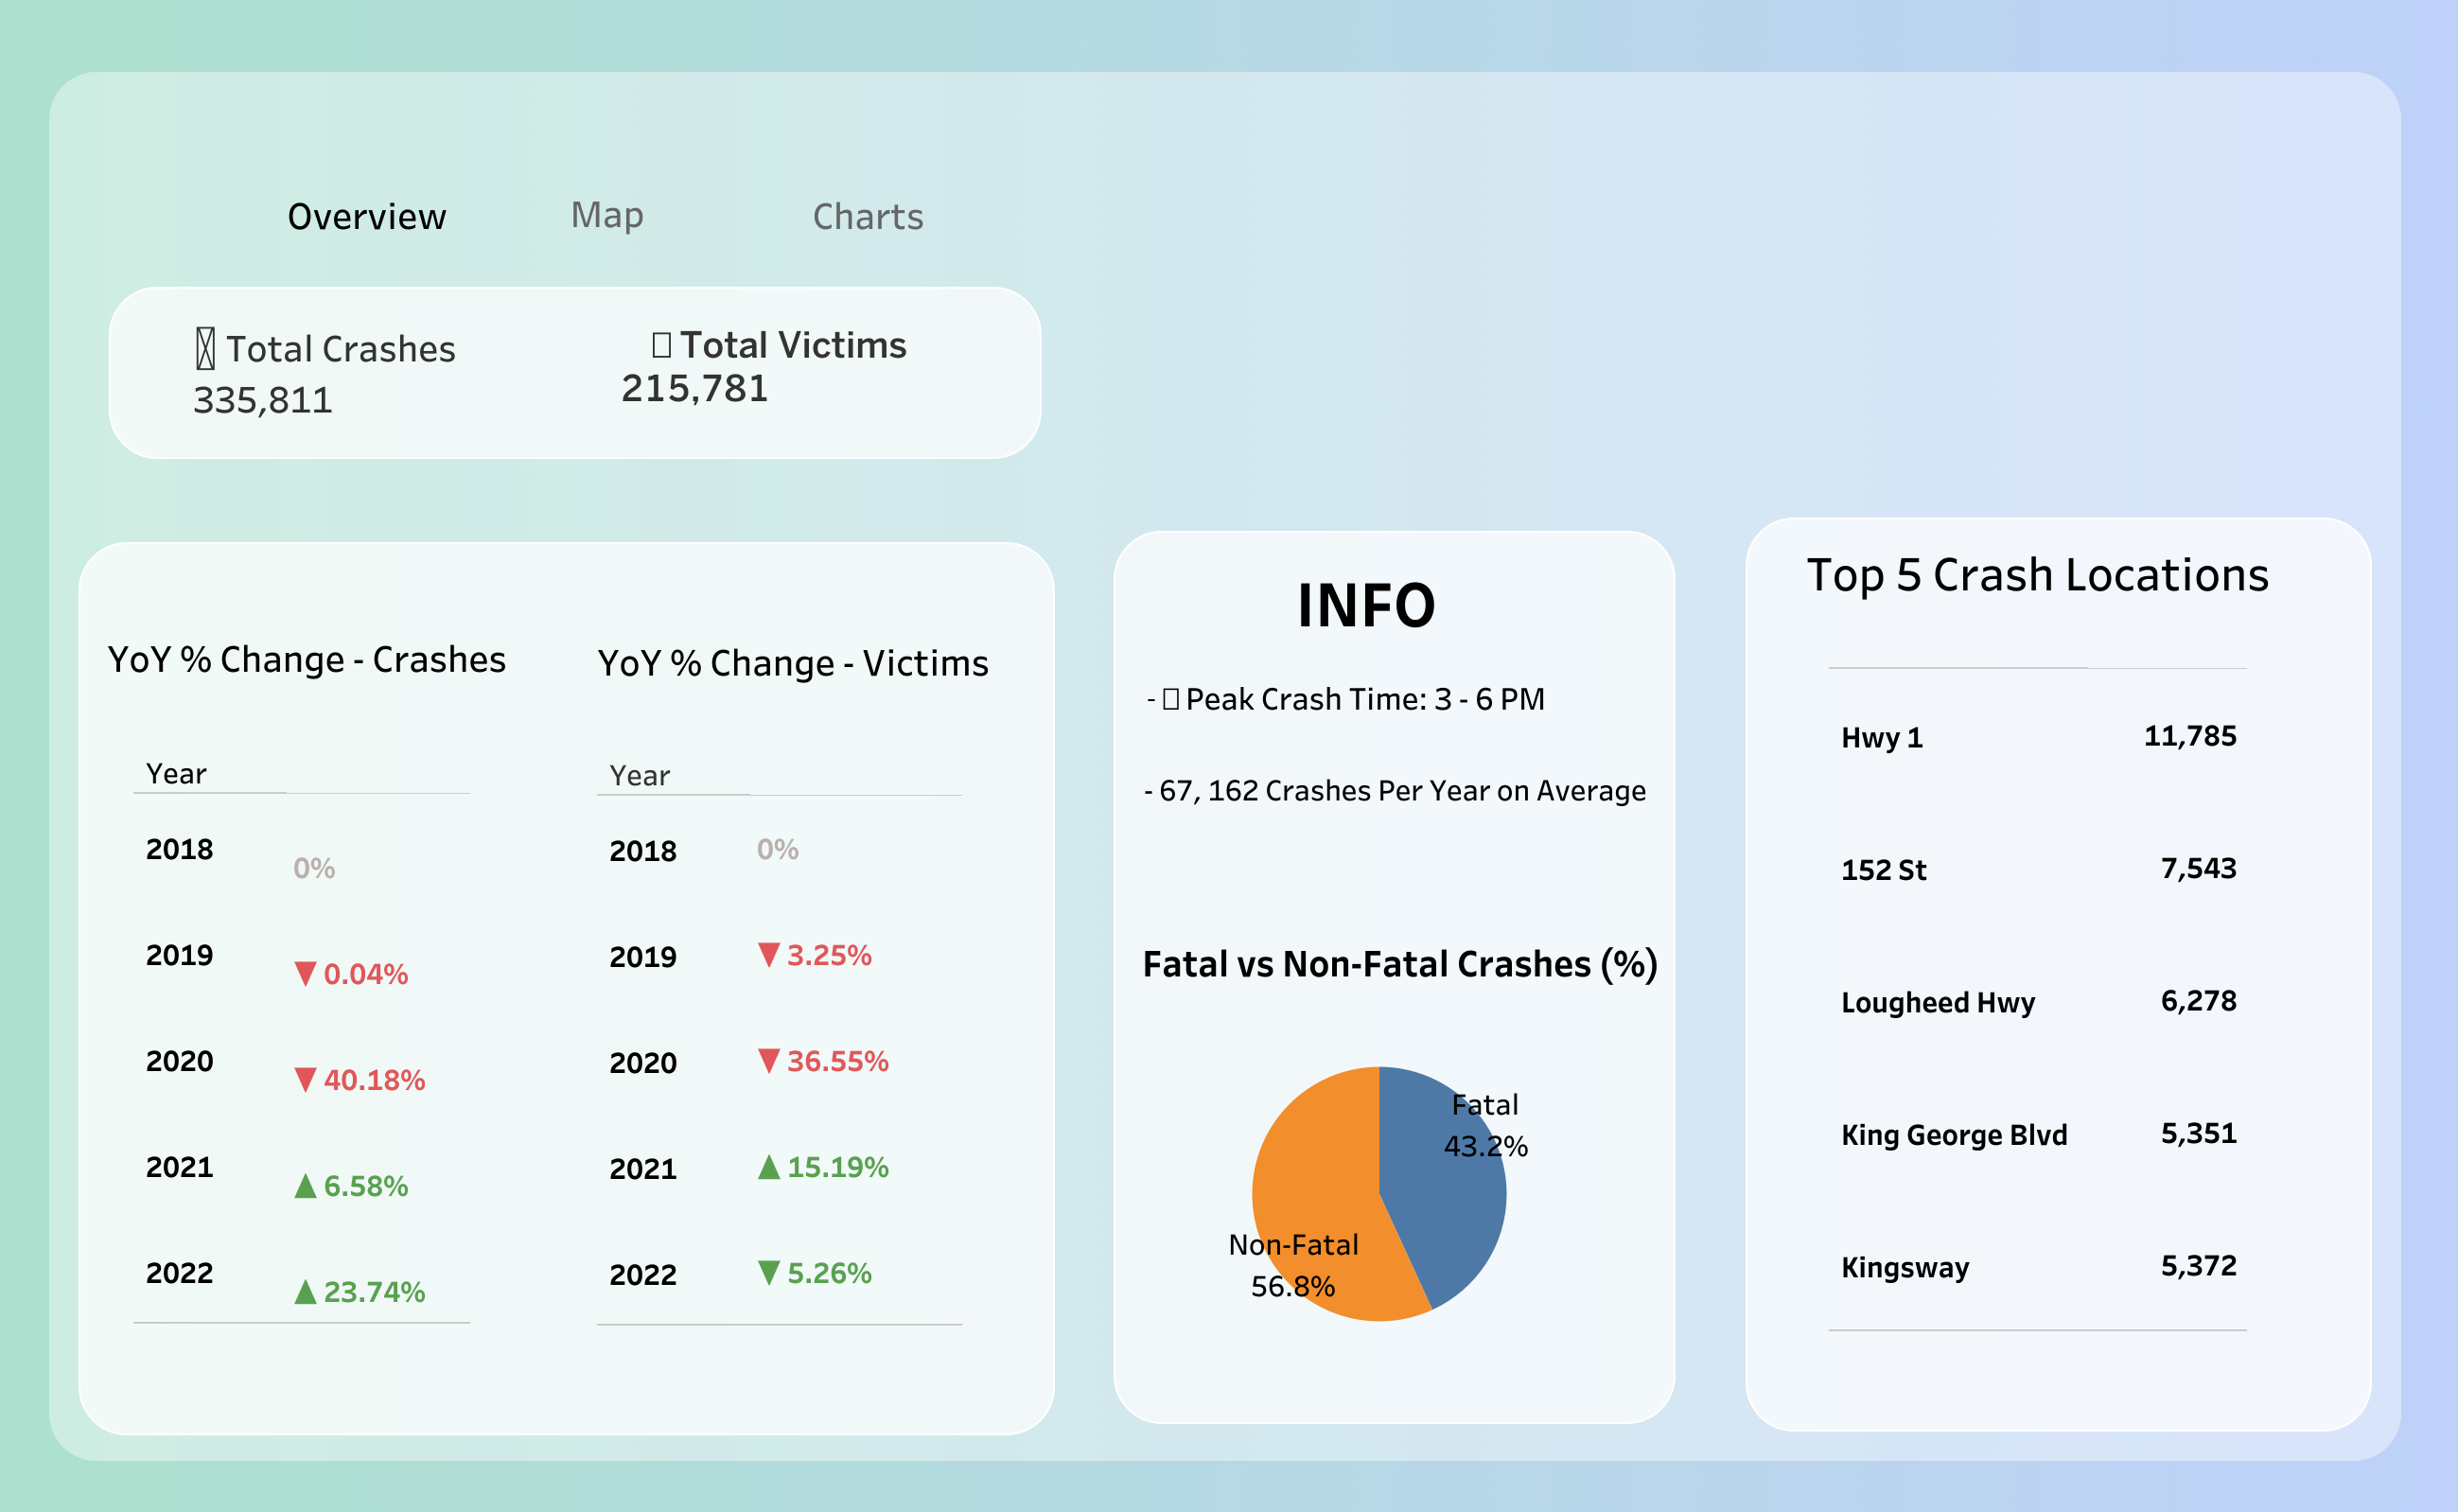

The page's visual inventory and layout, read from the dashboard file:
{"tool":"tableau","page":{"name":"Overview","canvas":[1300,800],"ordinal":2},"visuals":[{"type":"image","param":"/Users/paul/Downloads/Green - Blue Background.png","box":[0,0,1300,800]},{"type":"worksheet","title":"Sheet 9","mark":"Automatic","box":[0,1,1300,800]},{"type":"dashboard-object","box":[8,8,642,392]},{"type":"web page","box":[650,8,642,392]},{"type":"dashboard-object","box":[239,86,164,52]},{"type":"dashboard-object","box":[377,87,164,52]},{"type":"text","box":[149,98,100,30]},{"type":"worksheet","title":"Sheet 5","mark":"Text","box":[98,155,201,84]},{"type":"worksheet","title":"Sheet 6","mark":"Text","box":[324,156,199,92]},{"type":"text","box":[952,279,330,46]},{"type":"text","box":[682,296,100,44]},{"type":"text","box":[54,332,217,30]},{"type":"text","box":[313,334,230,30]},{"type":"text","box":[603,353,234,30]},{"type":"worksheet","title":"Sheet 8","mark":"Automatic","rows":["street_full"],"box":[967,353,315,393]},{"type":"blank","box":[8,400,1284,392]},{"type":"worksheet","title":"Sheet 7","mark":"Automatic","rows":["year"],"box":[71,400,220,350]},{"type":"worksheet","title":"Sheet 11","mark":"Automatic","rows":["year"],"box":[316,400,220,342]},{"type":"text","box":[602,402,272,30]},{"type":"text","box":[601,493,277,30]},{"type":"worksheet","title":"Sheet 12","mark":"Pie","box":[649,551,183,194]}]}

Visuals, with their boxes in screenshot pixels (x1, y1, x2, y2), scaled from the page's 1300x800 canvas onto the 2458x1512 screenshot:
image: 0, 0, 2457, 1511
"Sheet 9" worksheet: 0, 2, 2457, 1511
dashboard-object: 15, 15, 1229, 756
web page: 1229, 15, 2443, 756
dashboard-object: 452, 163, 762, 261
dashboard-object: 712, 165, 1023, 263
text: 282, 185, 471, 242
"Sheet 5" worksheet (Text marks): 185, 293, 566, 451
"Sheet 6" worksheet (Text marks): 613, 295, 989, 468
text: 1800, 527, 2424, 614
text: 1290, 559, 1479, 642
text: 102, 627, 513, 684
text: 592, 631, 1027, 688
text: 1140, 667, 1583, 724
"Sheet 8" worksheet: 1829, 667, 2424, 1410
blank: 15, 756, 2443, 1497
"Sheet 7" worksheet: 134, 756, 551, 1417
"Sheet 11" worksheet: 598, 756, 1013, 1402
text: 1138, 760, 1653, 817
text: 1136, 932, 1660, 989
"Sheet 12" worksheet (Pie marks): 1227, 1042, 1573, 1408
